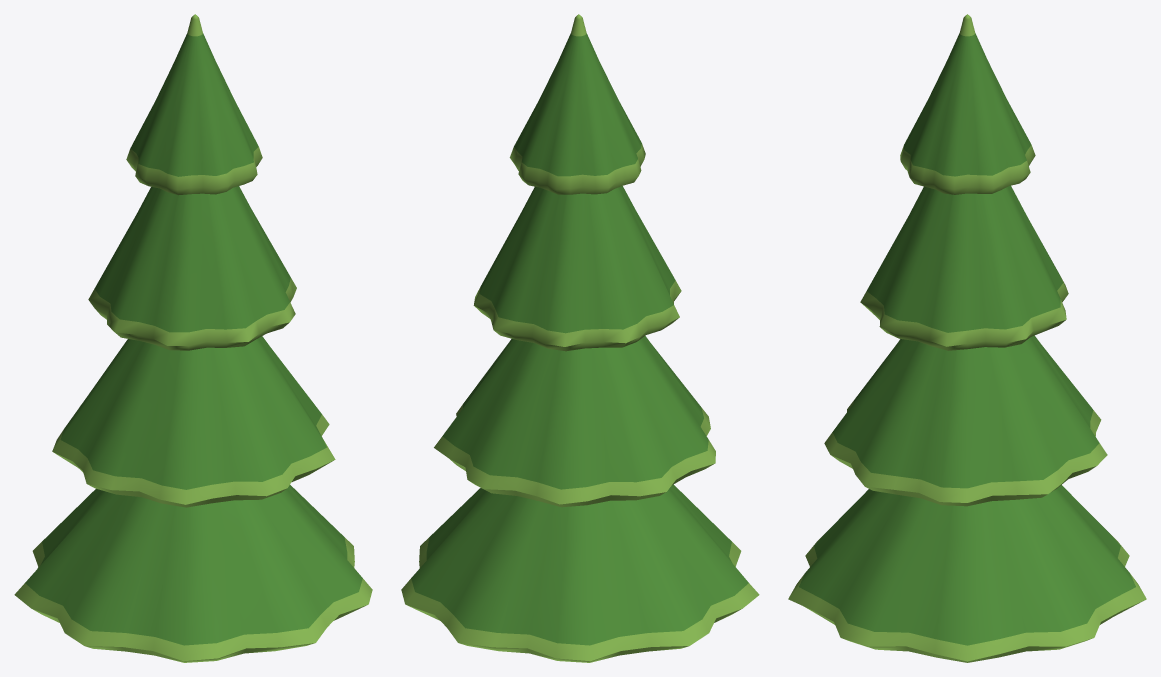
File: PineTree_09.glb
The picture shows the model from 3 angles, left to right: view 1: azimuth 30°, elevation 25°; view 2: azimuth 150°, elevation 25°; view 3: azimuth 270°, elevation 25°; orthographic projection.
Visible parts, largest first — view 1: PineTree_09; view 2: PineTree_09; view 3: PineTree_09.
Part boxes in pixels (x1,y1,x2,y2): PineTree_09: (14,14,372,662); PineTree_09: (401,14,759,662); PineTree_09: (788,14,1146,662).
Bounding box in the file's own units: 5.1 × 9.98 × 5.19.
